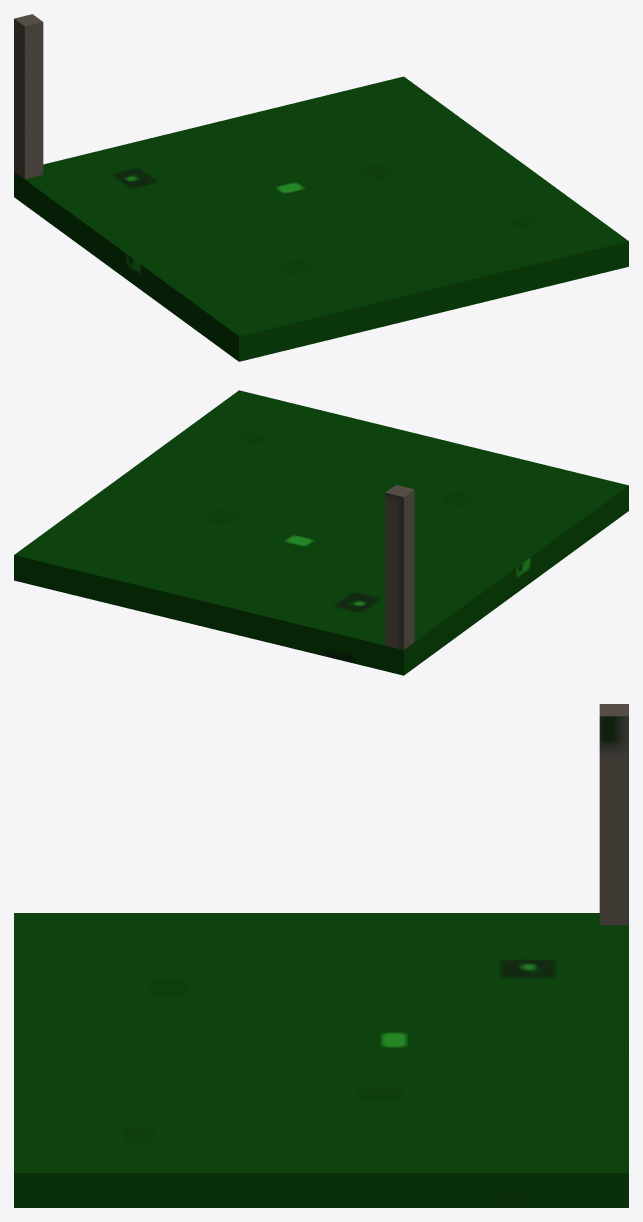
The model's file is yard_8x8_with_wall__inner_corner_00.glb.
3 views of the same model, one above another, from view 1: azimuth 30°, elevation 25°; view 2: azimuth 150°, elevation 25°; view 3: azimuth 270°, elevation 25° (orthographic). The views are drawn at different scales.
Visible parts, largest first — view 1: yard_8x8_with_wall_inner_corner_00; view 2: yard_8x8_with_wall_inner_corner_00; view 3: yard_8x8_with_wall_inner_corner_00.
Part boxes in pixels (<box>): yard_8x8_with_wall_inner_corner_00: <box>14,14,628,361</box>; yard_8x8_with_wall_inner_corner_00: <box>14,390,628,675</box>; yard_8x8_with_wall_inner_corner_00: <box>14,704,628,1207</box>.
Size of what is drawn, in the model's own units: 8 by 3.5 by 8.
Materials: 1 (1 with a texture image).
